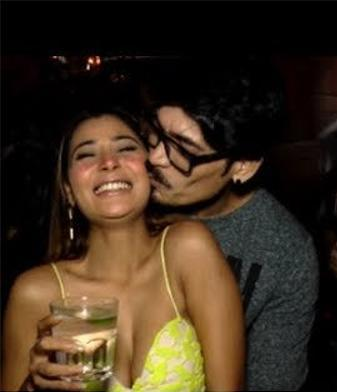Drunk: (68, 122, 146, 216), (144, 107, 215, 208)
